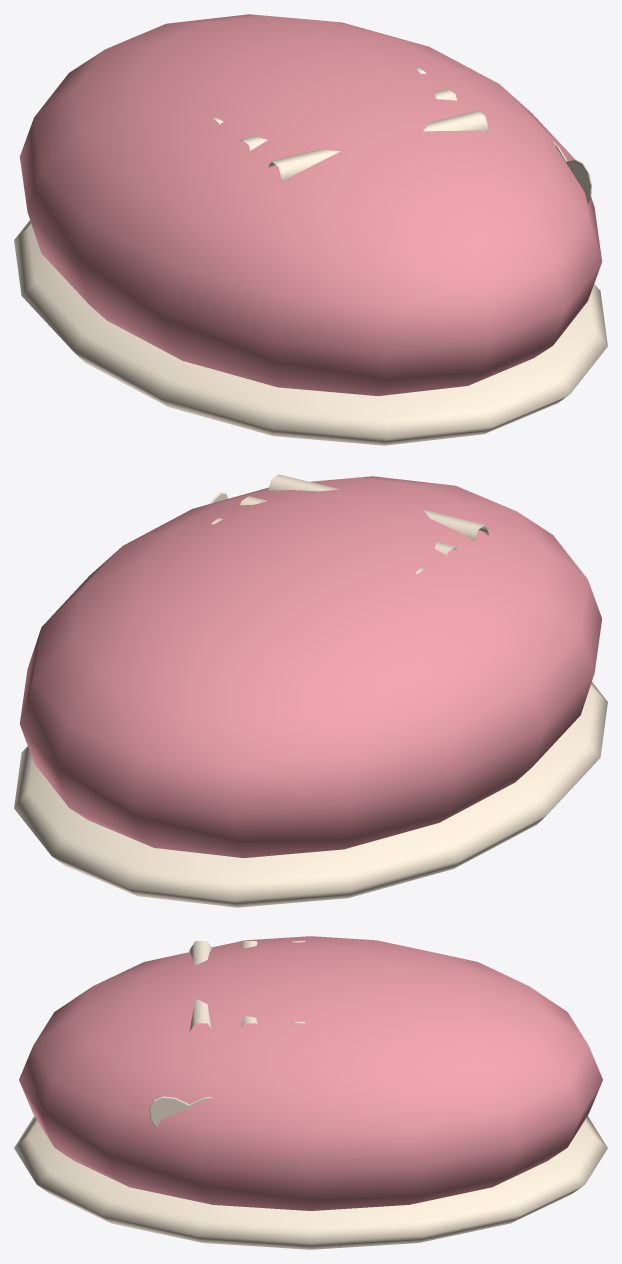
File: shoes_heart.glb
3 renders of one model, top to bottom at view 1: azimuth 30°, elevation 25°; view 2: azimuth 150°, elevation 25°; view 3: azimuth 270°, elevation 25°, orthographic. The views are drawn at different scales.
Visible parts, largest first — view 1: Zapatillas corazón; view 2: Zapatillas corazón; view 3: Zapatillas corazón.
Part boxes in pixels (x1=…): Zapatillas corazón: x1=14, y1=14, x2=607, y2=445; Zapatillas corazón: x1=14, y1=474, x2=607, y2=907; Zapatillas corazón: x1=14, y1=936, x2=607, y2=1249.
Bounding box in the file's own units: 0.184 × 0.1 × 0.244.
